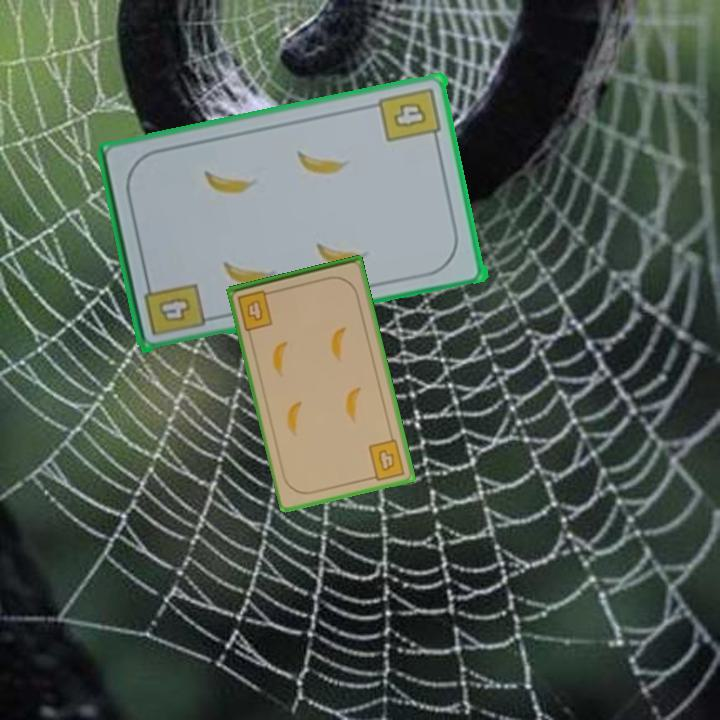4b: (376, 83, 445, 147), (140, 276, 208, 338), (365, 436, 408, 483), (234, 286, 277, 333)
